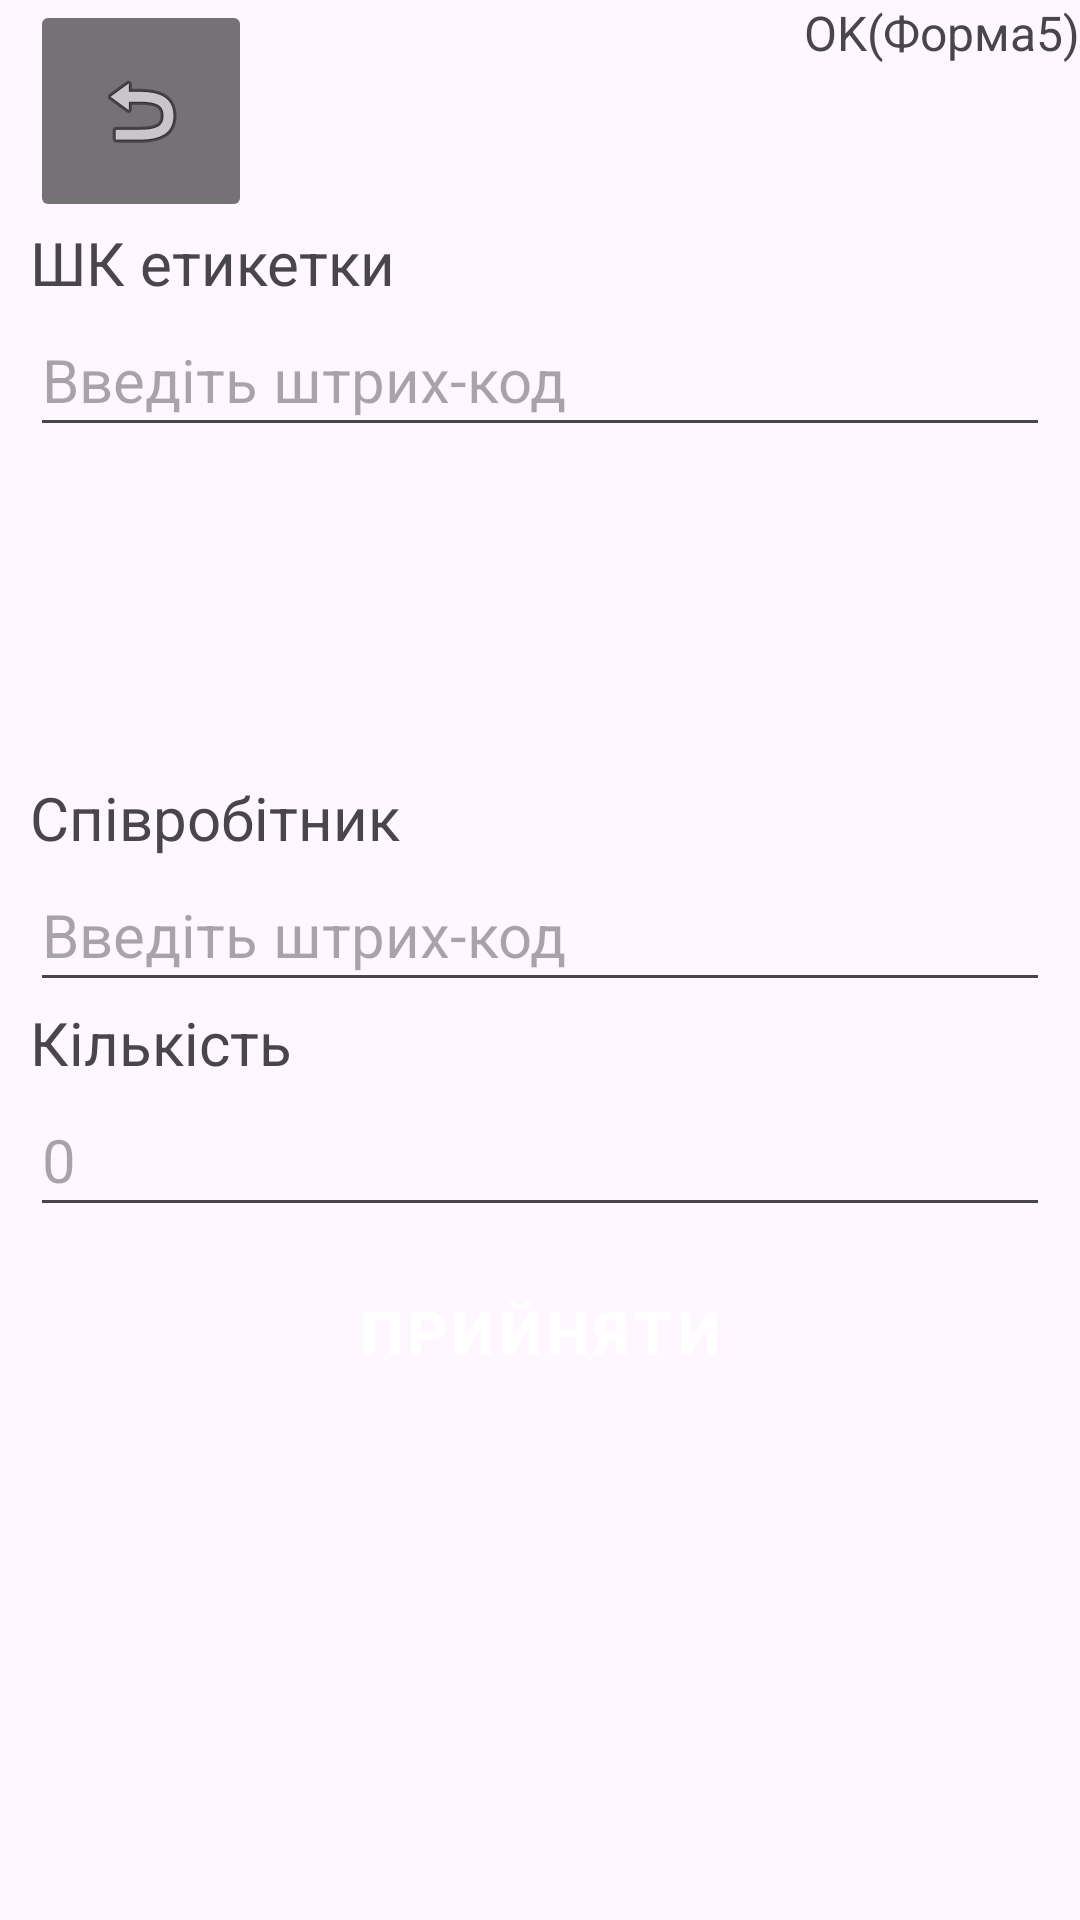

Named icons in this screenshot (1080px x 1920px) and their bounding boxes, (x1, y1, x2, y2):
На головну: (42, 18, 240, 204)
